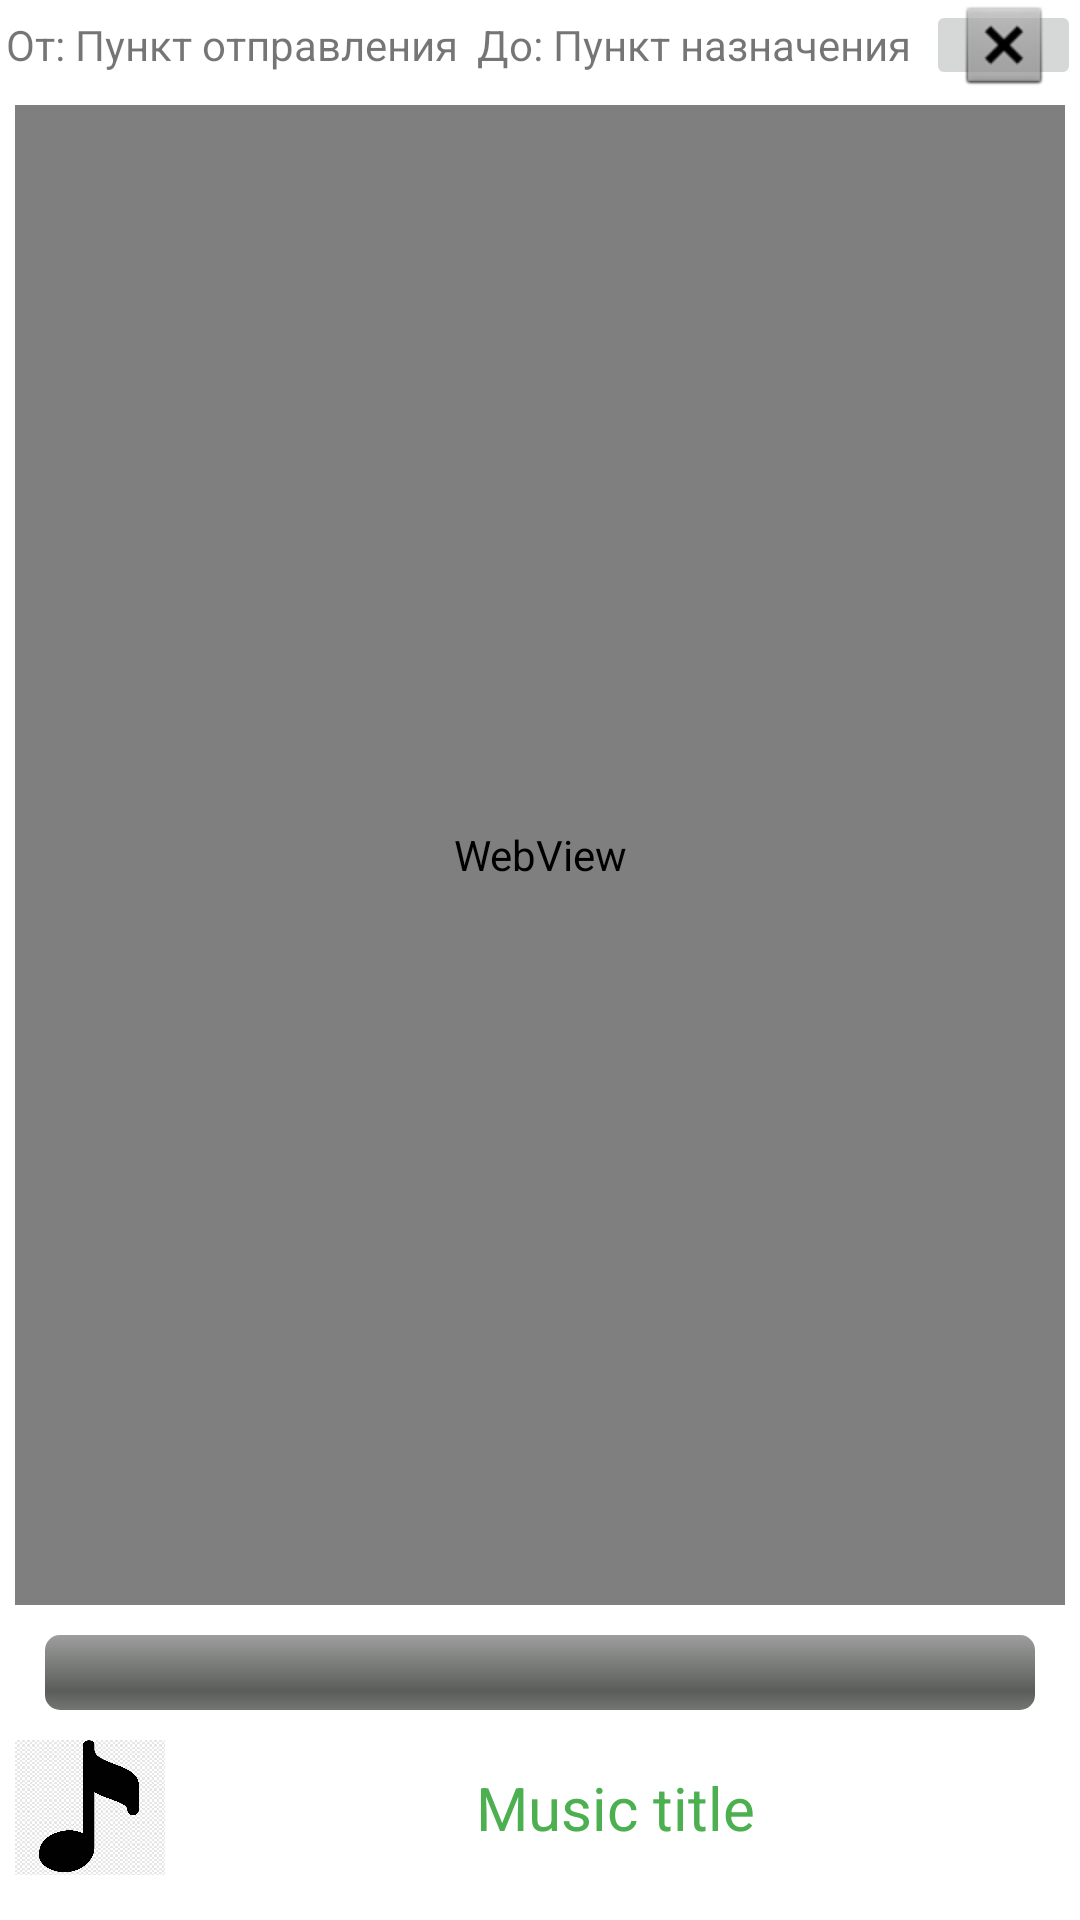

Screen size 1080 × 1920. Icon name, then its center in pixels as (x,y):
track: (90,1807)
